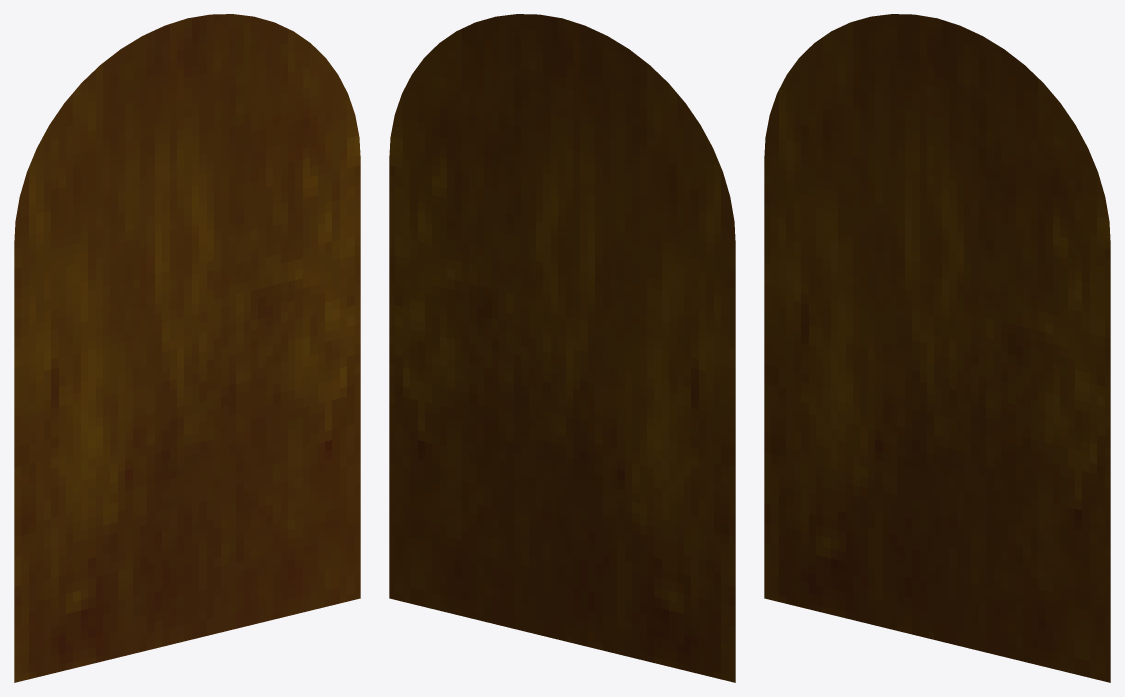
Rendered from door.glb.
3 views of the same model, side by side, from view 1: azimuth 30°, elevation 25°; view 2: azimuth 150°, elevation 25°; view 3: azimuth 330°, elevation 25° (orthographic).
Visible parts, largest first — view 1: Plane; view 2: Plane; view 3: Plane.
Boxes of the visible parts, left/top/right/bottom form: Plane: left=14, top=14, right=360, bottom=682; Plane: left=389, top=14, right=735, bottom=682; Plane: left=764, top=14, right=1110, bottom=682.
Size of the model in its own units: 2.51 by 4.3 by 7.53e-08.
1 material, 1 textured.
